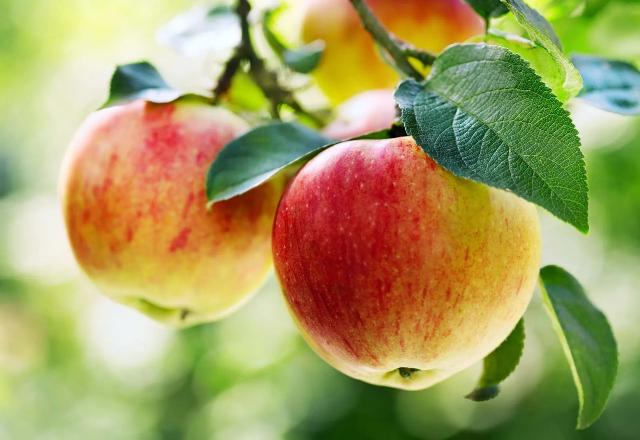Apple: (272, 138, 541, 390), (60, 99, 285, 328), (302, 0, 399, 105)
